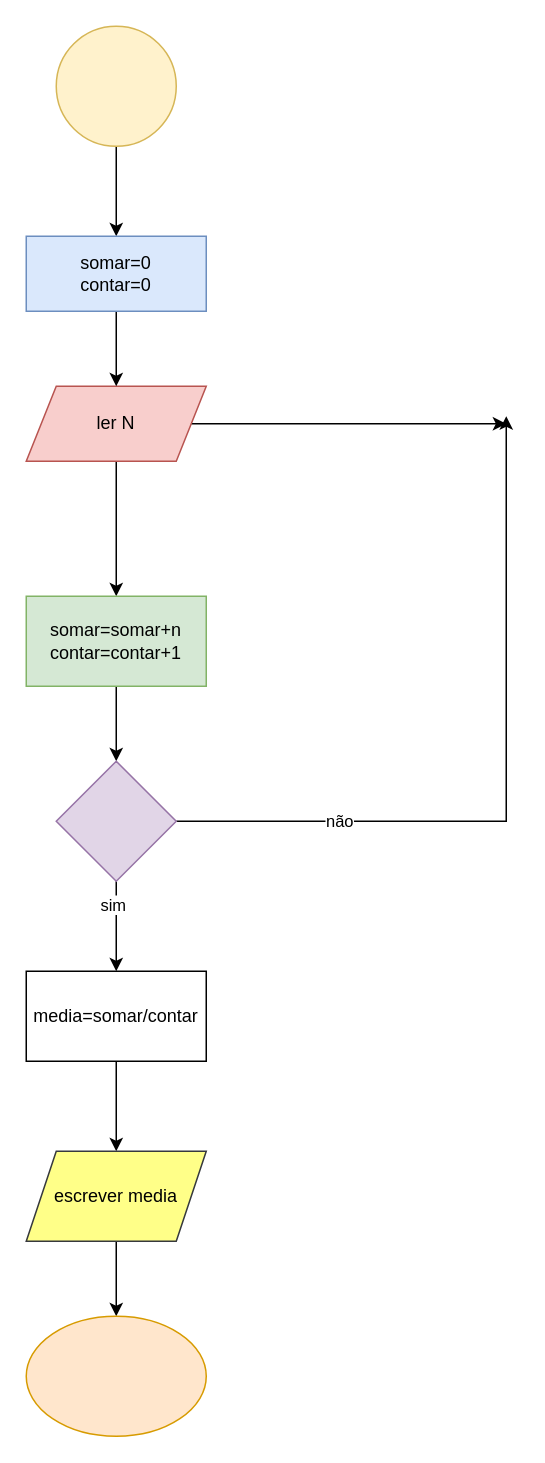
This 545x1463 diagram has some shape labels left out. Here are the shapes that lost their labels. From the top down, the centre of each, then its label:
the point at 115,85: Inicío
the point at 115,820: somar>1000
the point at 115,1375: fim
